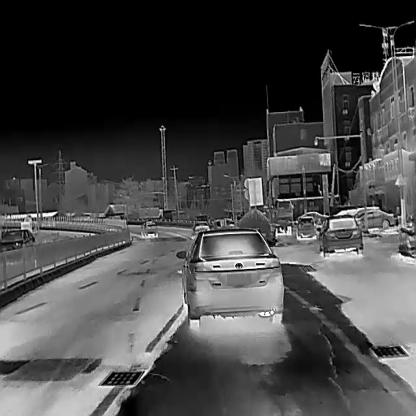car: (182, 228, 284, 329), (316, 214, 364, 257), (345, 208, 397, 228), (0, 228, 35, 249), (270, 198, 294, 220), (294, 216, 316, 237), (140, 220, 158, 238)
